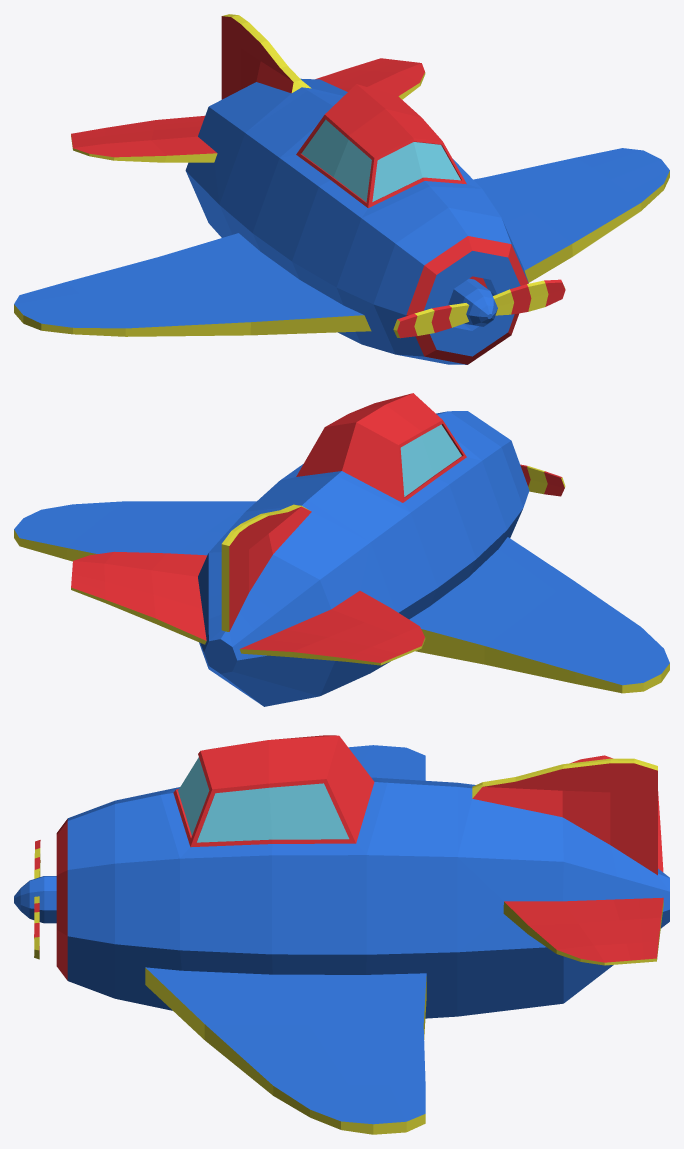
File: sky_talon.glb
3 renders of one model, top to bottom at view 1: azimuth 30°, elevation 25°; view 2: azimuth 150°, elevation 25°; view 3: azimuth 270°, elevation 25°, orthographic. The views are drawn at different scales.
Visible parts, largest first — view 1: Cylinder, Cylinder.001; view 2: Cylinder, Cylinder.001; view 3: Cylinder, Cylinder.001.
Boxes of the visible parts, left/top/right/bottom form: Cylinder: left=14, top=14, right=669, bottom=364; Cylinder.001: left=393, top=278, right=565, bottom=338; Cylinder: left=14, top=393, right=669, bottom=706; Cylinder.001: left=520, top=464, right=565, bottom=496; Cylinder: left=56, top=735, right=669, bottom=1134; Cylinder.001: left=14, top=840, right=56, bottom=959.
Size of the model in its own units: 7.21 by 2.5 by 5.27.
